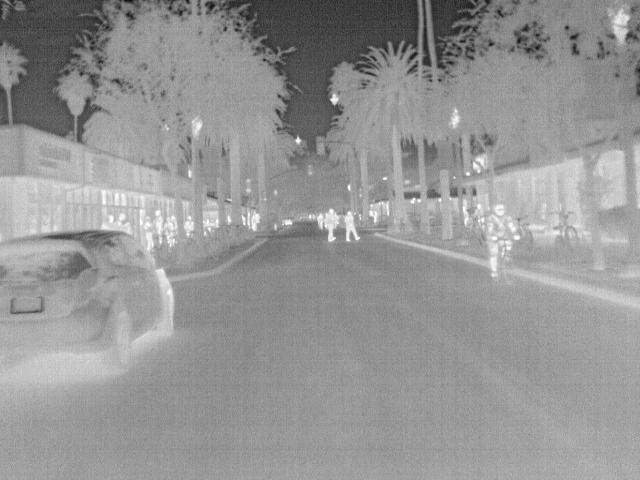car: (4, 228, 176, 373)
person: (486, 204, 520, 280), (344, 210, 364, 242), (323, 207, 339, 243), (152, 207, 167, 244), (141, 215, 155, 249), (114, 213, 134, 235), (471, 200, 486, 228), (182, 213, 195, 238), (100, 213, 119, 230), (165, 215, 181, 234), (459, 205, 471, 227), (248, 212, 260, 232), (317, 211, 326, 231)
